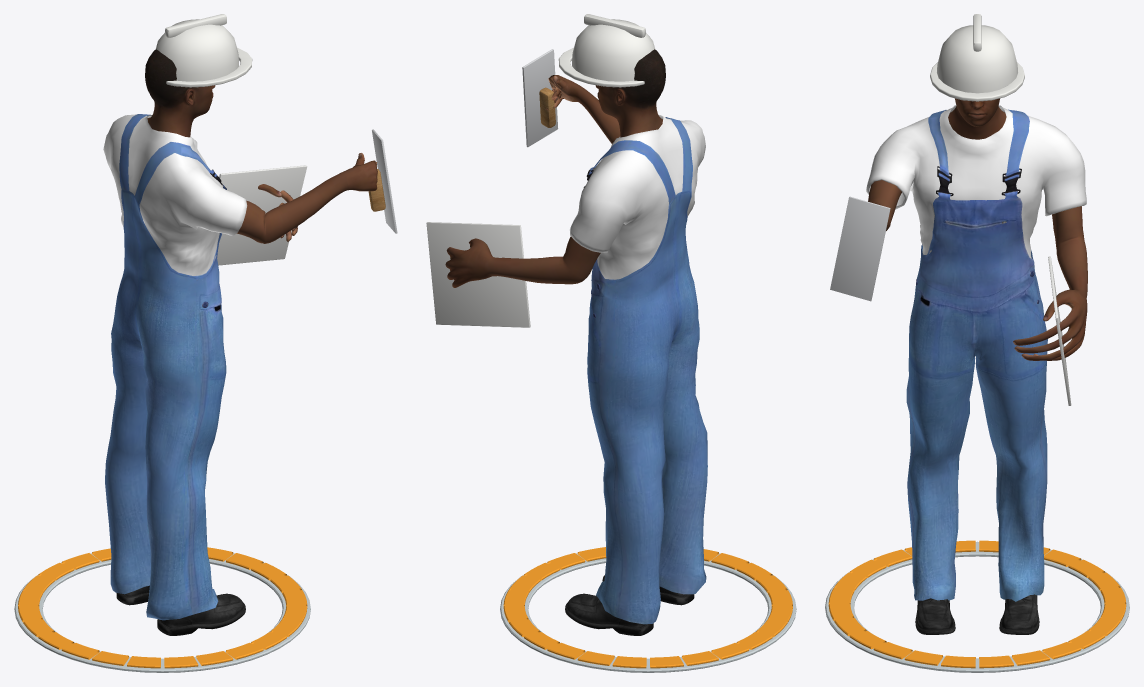
File: MDO-OBR-005.glb
The picture shows the model from 3 angles, left to right: view 1: azimuth 30°, elevation 25°; view 2: azimuth 150°, elevation 25°; view 3: azimuth 270°, elevation 25°; orthographic projection. The views are drawn at different scales.
Visible parts, largest first — view 1: MDO-OBR-005_pessoa_male_worksuit01, MDO-OBR-005_pessoa, MDO-OBR-005_ferE_azulejo, MDO-OBR-005_capacete, MDO-OBR-005_anel_fundo, MDO-OBR-005_pessoa_shoes04, MDO-OBR-005_ferD_chapa, MDO-OBR-005_capacete_aba, MDO-OBR-005_capacete_friso; view 2: MDO-OBR-005_pessoa_male_worksuit01, MDO-OBR-005_pessoa, MDO-OBR-005_ferE_azulejo, MDO-OBR-005_capacete, MDO-OBR-005_anel_fundo, MDO-OBR-005_pessoa_shoes04, MDO-OBR-005_ferD_chapa, MDO-OBR-005_capacete_aba, MDO-OBR-005_capacete_friso, MDO-OBR-005_ferD_cabo; view 3: MDO-OBR-005_pessoa_male_worksuit01, MDO-OBR-005_pessoa, MDO-OBR-005_capacete, MDO-OBR-005_ferD_chapa, MDO-OBR-005_anel_fundo, MDO-OBR-005_pessoa_shoes04, MDO-OBR-005_capacete_aba, MDO-OBR-005_ferE_azulejo.
Boxes of the visible parts, bbox=[...] form: MDO-OBR-005_pessoa_male_worksuit01: bbox=[103, 114, 247, 620]; MDO-OBR-005_pessoa: bbox=[145, 49, 377, 243]; MDO-OBR-005_ferE_azulejo: bbox=[217, 165, 307, 265]; MDO-OBR-005_capacete: bbox=[155, 19, 238, 81]; MDO-OBR-005_anel_fundo: bbox=[14, 553, 310, 672]; MDO-OBR-005_pessoa_shoes04: bbox=[116, 585, 245, 635]; MDO-OBR-005_ferD_chapa: bbox=[372, 129, 397, 233]; MDO-OBR-005_capacete_aba: bbox=[166, 47, 252, 87]; MDO-OBR-005_capacete_friso: bbox=[165, 14, 226, 37]; MDO-OBR-005_pessoa_male_worksuit01: bbox=[569, 115, 707, 624]; MDO-OBR-005_pessoa: bbox=[445, 49, 665, 287]; MDO-OBR-005_ferE_azulejo: bbox=[426, 222, 530, 327]; MDO-OBR-005_capacete: bbox=[572, 19, 655, 81]; MDO-OBR-005_anel_fundo: bbox=[500, 553, 796, 672]; MDO-OBR-005_pessoa_shoes04: bbox=[565, 575, 694, 635]; MDO-OBR-005_ferD_chapa: bbox=[522, 49, 558, 147]; MDO-OBR-005_capacete_aba: bbox=[558, 47, 644, 87]; MDO-OBR-005_capacete_friso: bbox=[584, 14, 645, 37]; MDO-OBR-005_ferD_cabo: bbox=[539, 87, 555, 127]; MDO-OBR-005_pessoa_male_worksuit01: bbox=[866, 105, 1086, 601]; MDO-OBR-005_pessoa: bbox=[868, 98, 1087, 360]; MDO-OBR-005_capacete: bbox=[937, 25, 1017, 93]; MDO-OBR-005_ferD_chapa: bbox=[830, 196, 890, 301]; MDO-OBR-005_anel_fundo: bbox=[825, 541, 1129, 672]; MDO-OBR-005_pessoa_shoes04: bbox=[915, 594, 1039, 634]; MDO-OBR-005_capacete_aba: bbox=[930, 62, 1024, 101]; MDO-OBR-005_ferE_azulejo: bbox=[1048, 256, 1071, 405].
Bounding box in the file's own units: 1.02 × 1.82 × 0.84.
11 materials, 6 textured.
